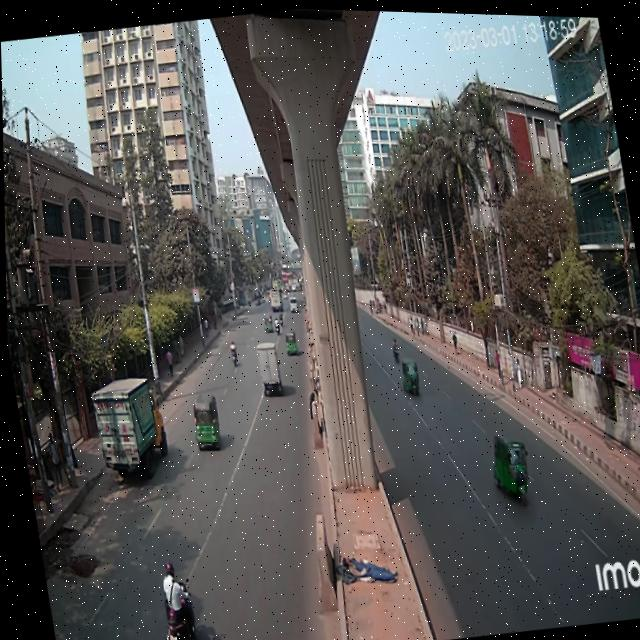cng: (484, 419, 540, 518), (185, 388, 225, 458), (395, 352, 423, 402), (280, 327, 301, 358), (261, 308, 274, 336)
